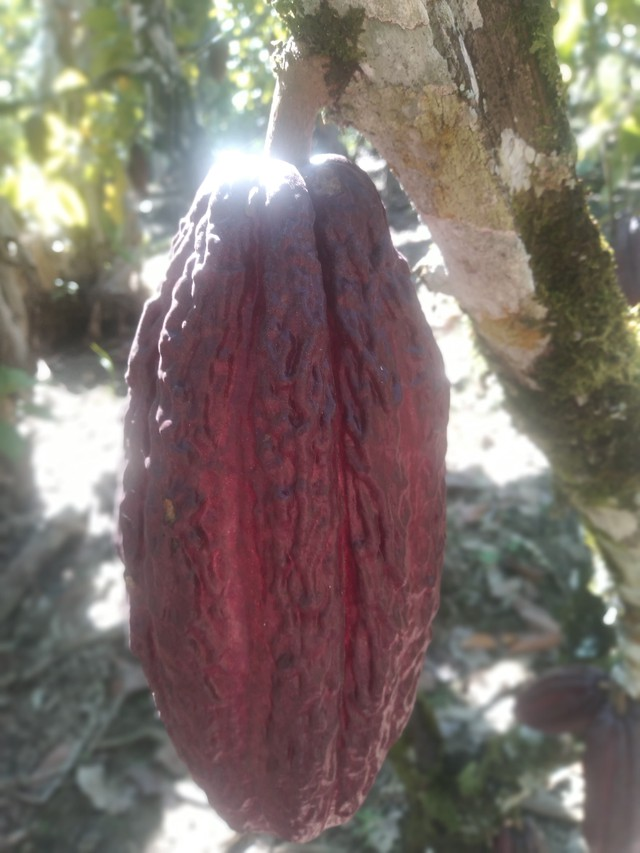Health: (93, 127, 469, 853)
